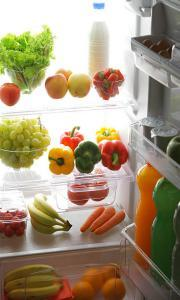Leche: (87, 0, 110, 72)
Lechuga/Endivia: (0, 22, 57, 64)
Manzana: (44, 72, 69, 100), (66, 71, 91, 99)
Pimiento: (97, 136, 129, 172), (73, 138, 102, 176), (48, 143, 76, 176), (60, 124, 84, 150)
Plátano: (6, 263, 64, 300), (26, 190, 73, 235)
Tomate: (0, 82, 22, 108)
Zanahoria: (80, 204, 126, 236)
